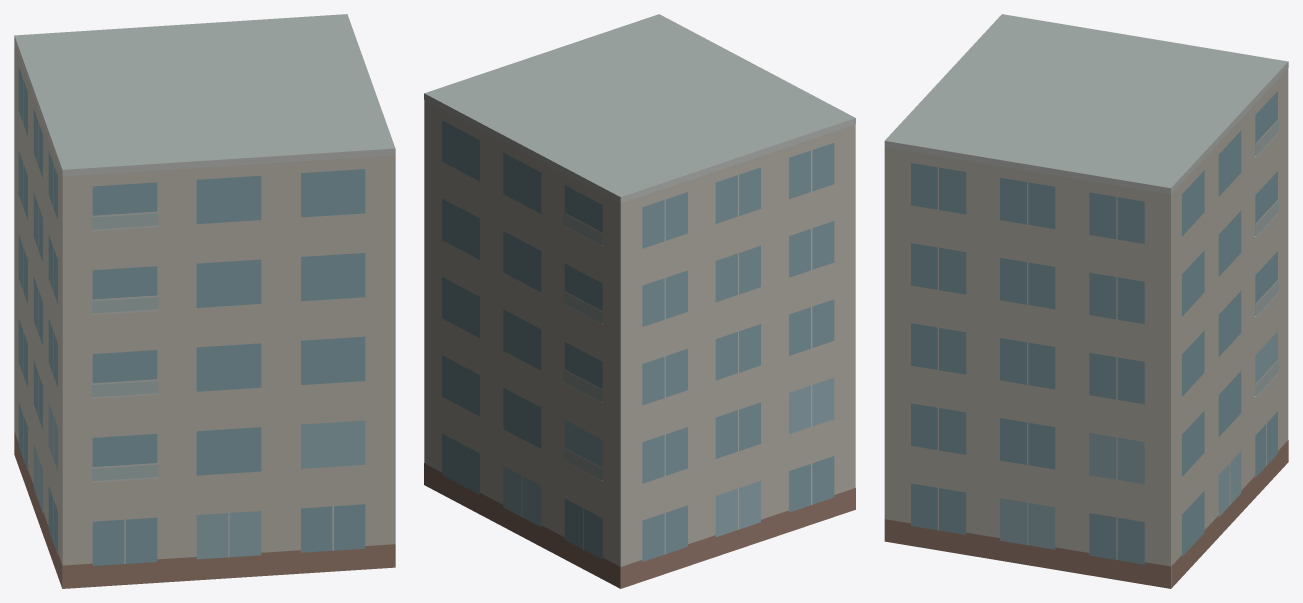
Rendered from survey-upis-32552151.glb.
The picture shows the model from 3 angles, left to right: view 1: azimuth 30°, elevation 25°; view 2: azimuth 150°, elevation 25°; view 3: azimuth 270°, elevation 25°; orthographic projection. The views are drawn at different scales.
Parts seen in each view (by area): view 1: survey-upis-32552151.tmp; view 2: survey-upis-32552151.tmp; view 3: survey-upis-32552151.tmp.
Boxes of the visible parts, box(x1,y1,x2,y2) form: survey-upis-32552151.tmp: box(14, 14, 395, 588); survey-upis-32552151.tmp: box(424, 14, 855, 588); survey-upis-32552151.tmp: box(884, 14, 1288, 588).
Bounding box in the file's own units: 14.32 × 15.35 × 14.03.
